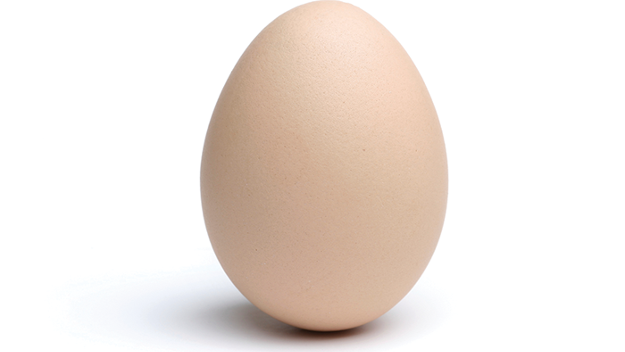Egg: (186, 1, 462, 349)
